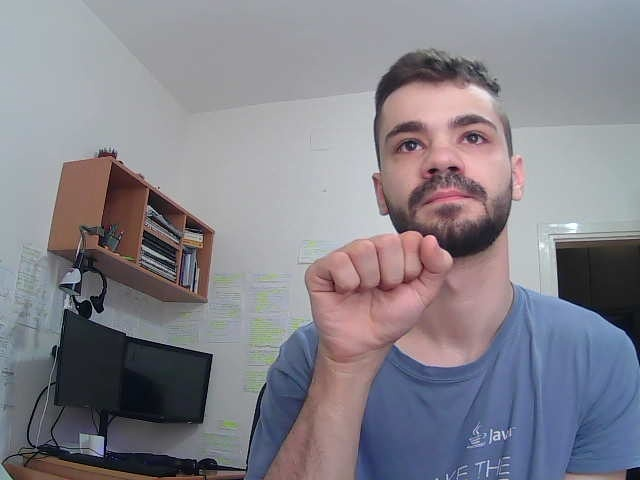a: (288, 205, 464, 372)
